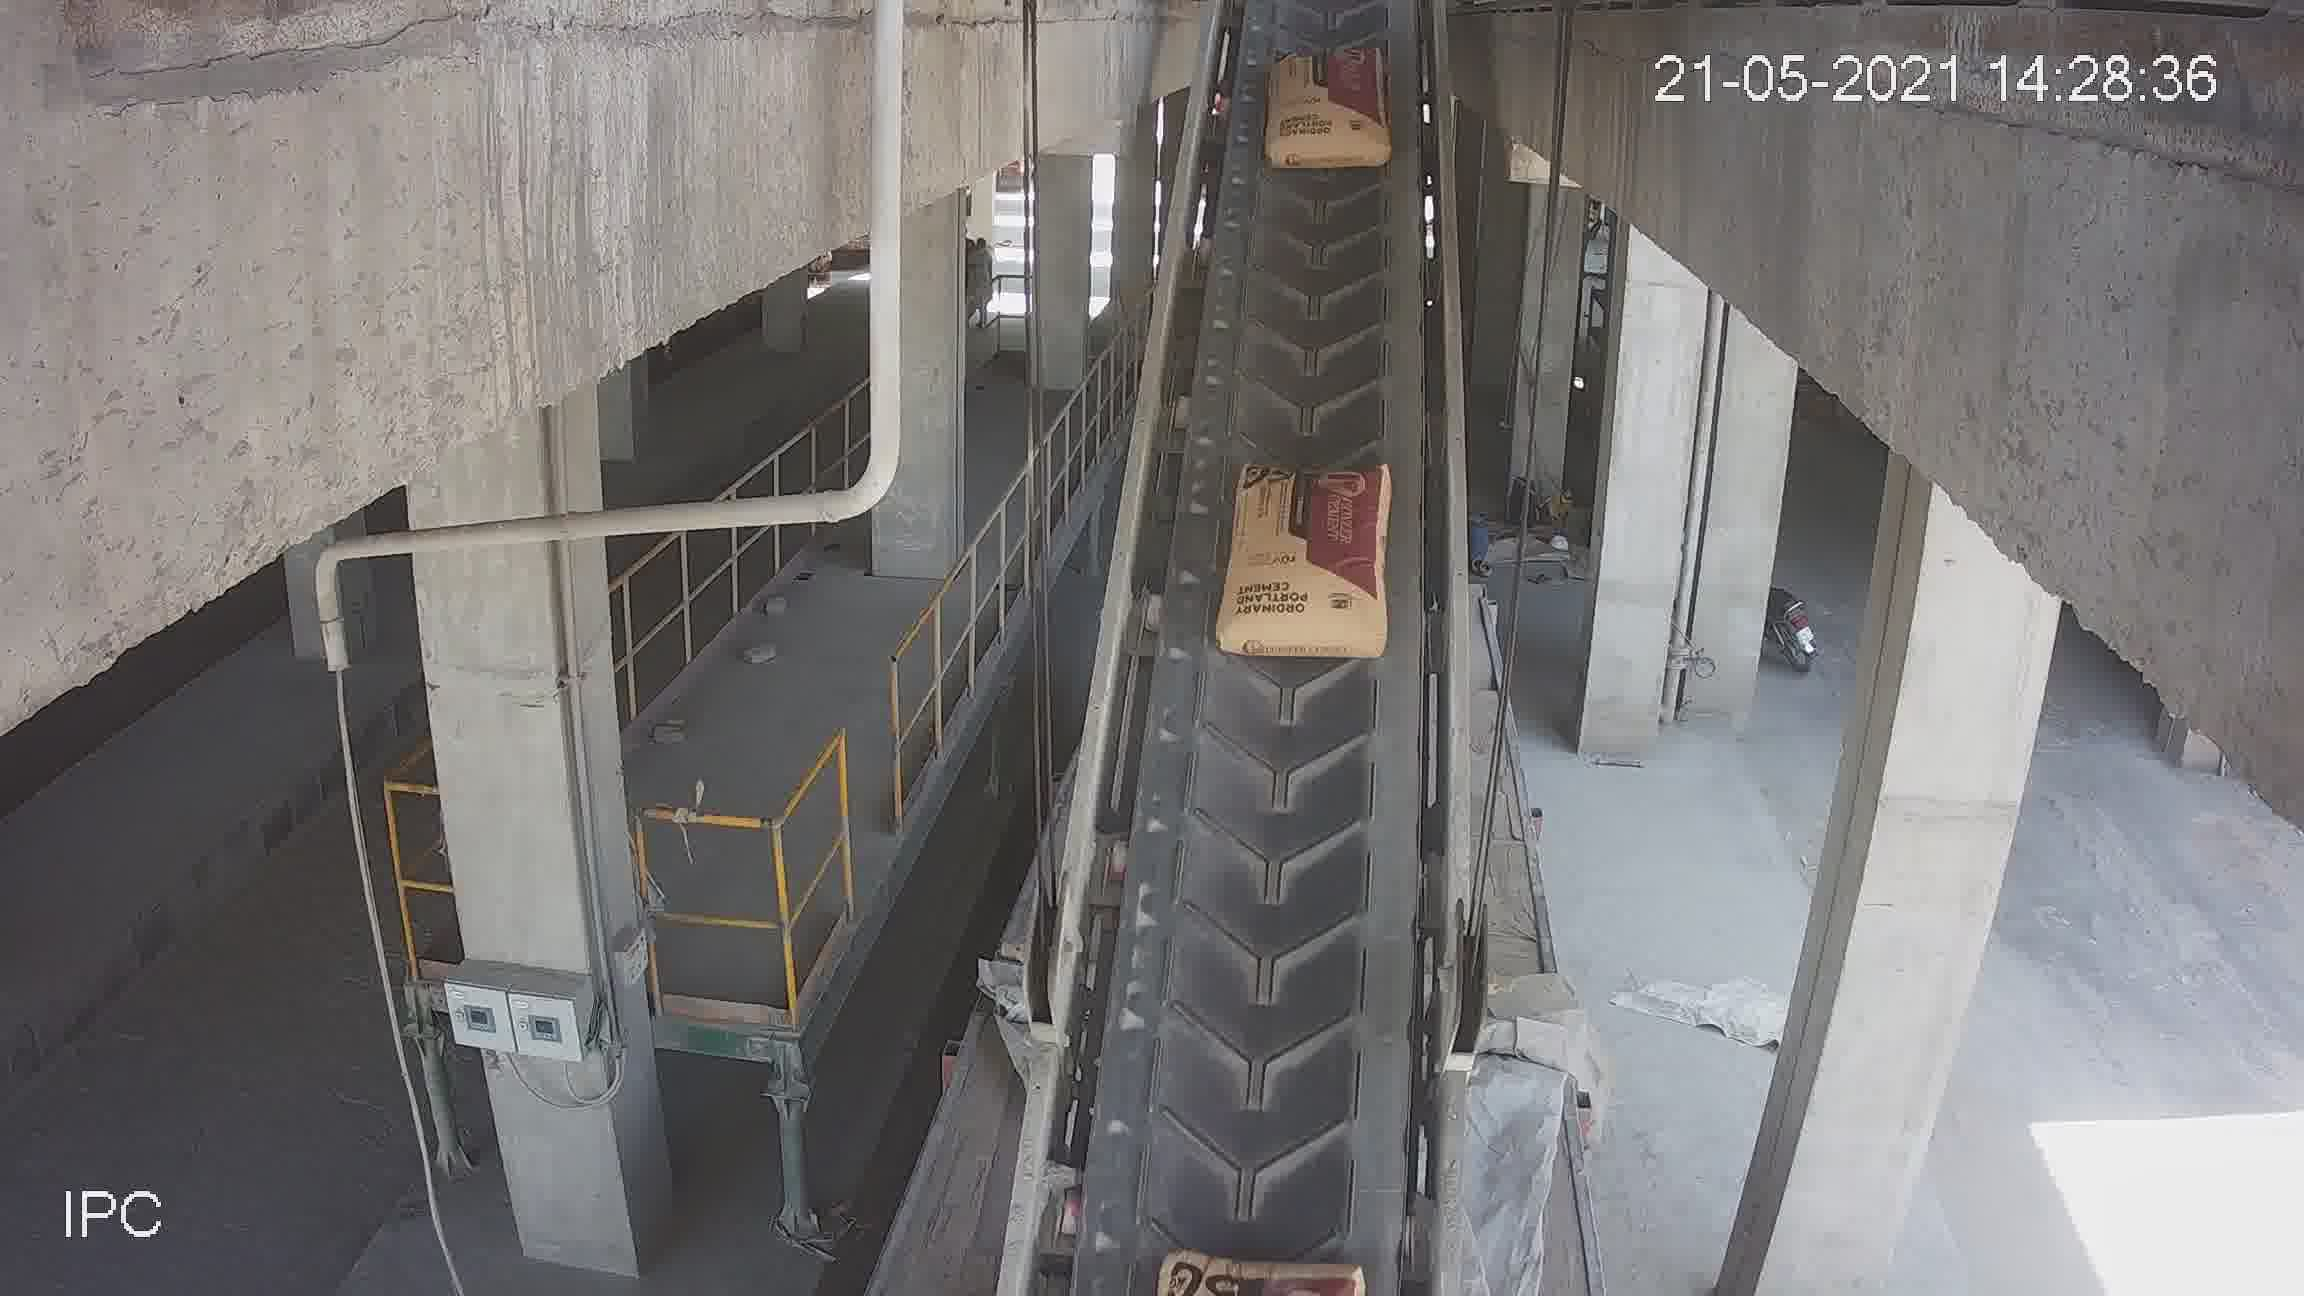bag: (1228, 465, 1391, 668), (1261, 55, 1386, 168)
belt: (1051, 43, 1465, 1272)
